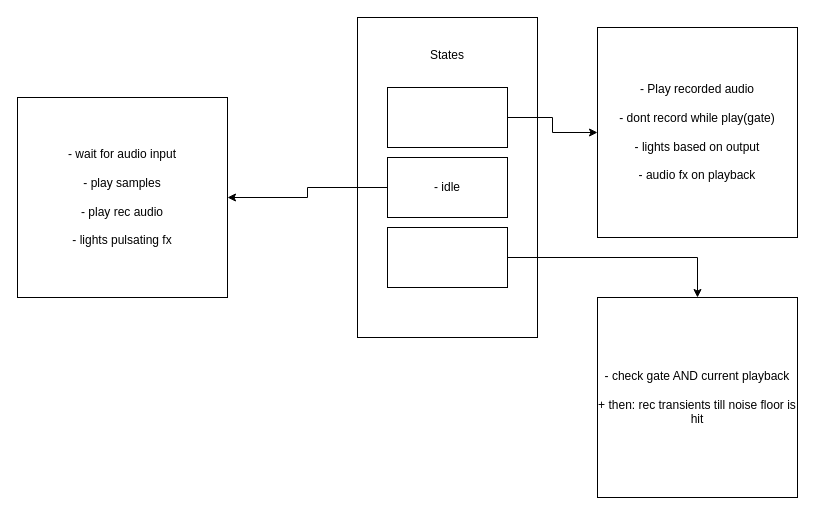
This 815x515 diagram has some shape labels left out. Each missing label, with the centre of its shape:
- listen: point (447, 257)
- play: point (447, 117)
